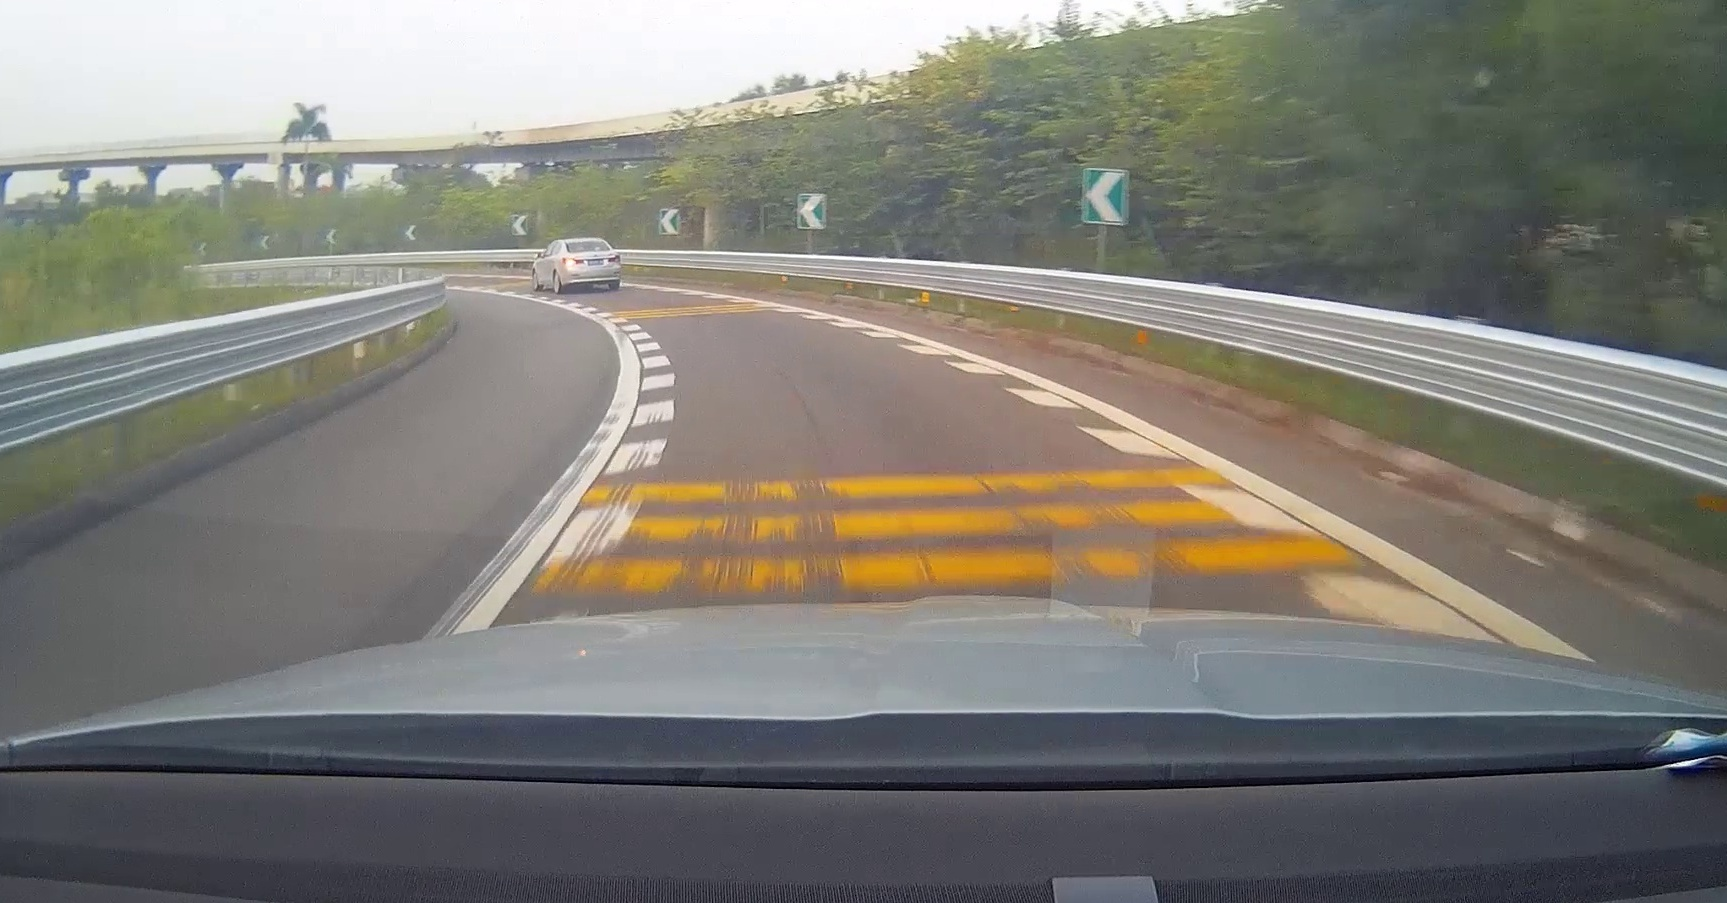L_light: (562, 258, 584, 265)
R_light: (608, 255, 620, 263)
T_light: (583, 241, 593, 244)
day-left: (561, 237, 621, 293)
